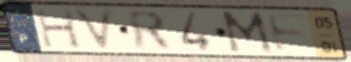4: (178, 10, 215, 53)
F: (263, 11, 310, 56)
H: (33, 8, 84, 50)
M: (218, 10, 277, 57)
R: (124, 9, 177, 53)
V: (69, 6, 117, 54)
